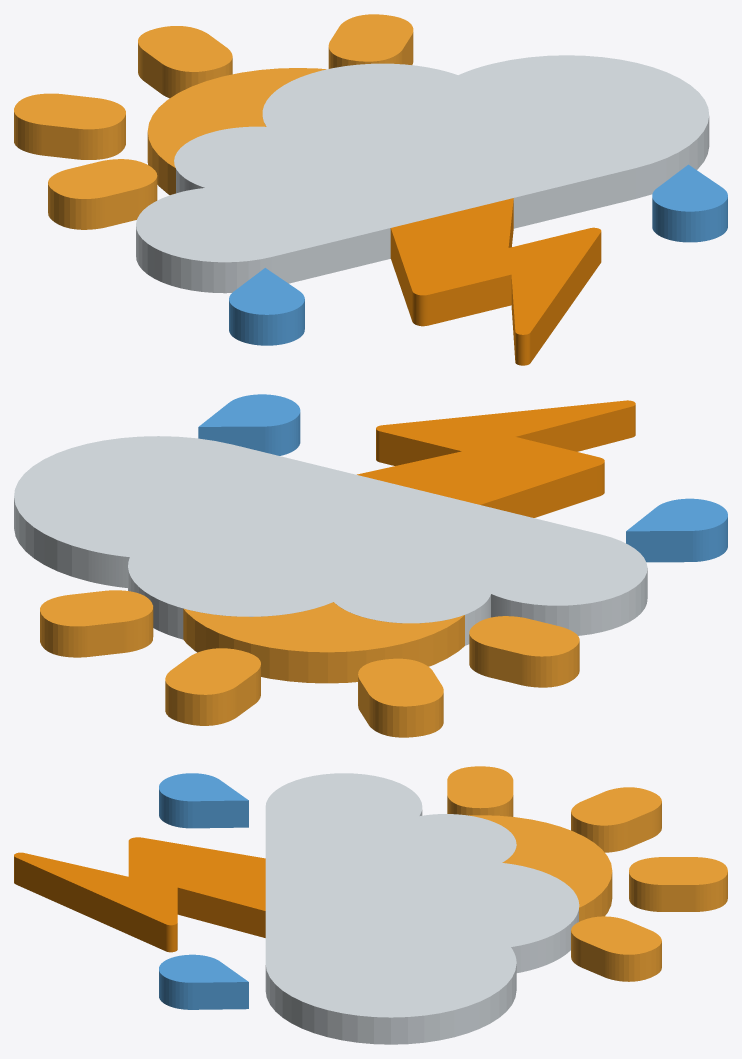
The model's file is showersthunder.gltf.
3 renders of one model, top to bottom at view 1: azimuth 30°, elevation 25°; view 2: azimuth 150°, elevation 25°; view 3: azimuth 270°, elevation 25°, orthographic. The views are drawn at different scales.
Visible parts, largest first — view 1: Curve.002, Curve, Curve.004, Curve.003, Curve.001; view 2: Curve.002, Curve, Curve.004, Curve.001, Curve.003; view 3: Curve.002, Curve, Curve.004, Curve.003, Curve.001.
Boxes of the visible parts, x1,y1,x2,y2 form: Curve.002: [136, 55, 709, 293]; Curve: [14, 14, 413, 229]; Curve.004: [390, 198, 601, 365]; Curve.003: [229, 164, 727, 345]; Curve.001: [147, 68, 326, 194]; Curve.002: [14, 436, 647, 645]; Curve: [40, 590, 579, 737]; Curve.004: [357, 400, 635, 517]; Curve.001: [183, 602, 464, 683]; Curve.003: [198, 394, 727, 562]; Curve.002: [265, 773, 579, 1044]; Curve: [447, 766, 727, 981]; Curve.004: [14, 837, 265, 952]; Curve.003: [159, 773, 248, 1009]; Curve.001: [469, 815, 612, 921].
Bounding box in the file's own units: 1.99 × 0.1 × 2.39.
